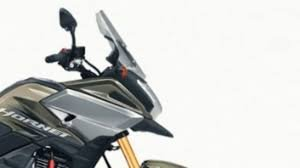motor: (1, 24, 189, 163)
